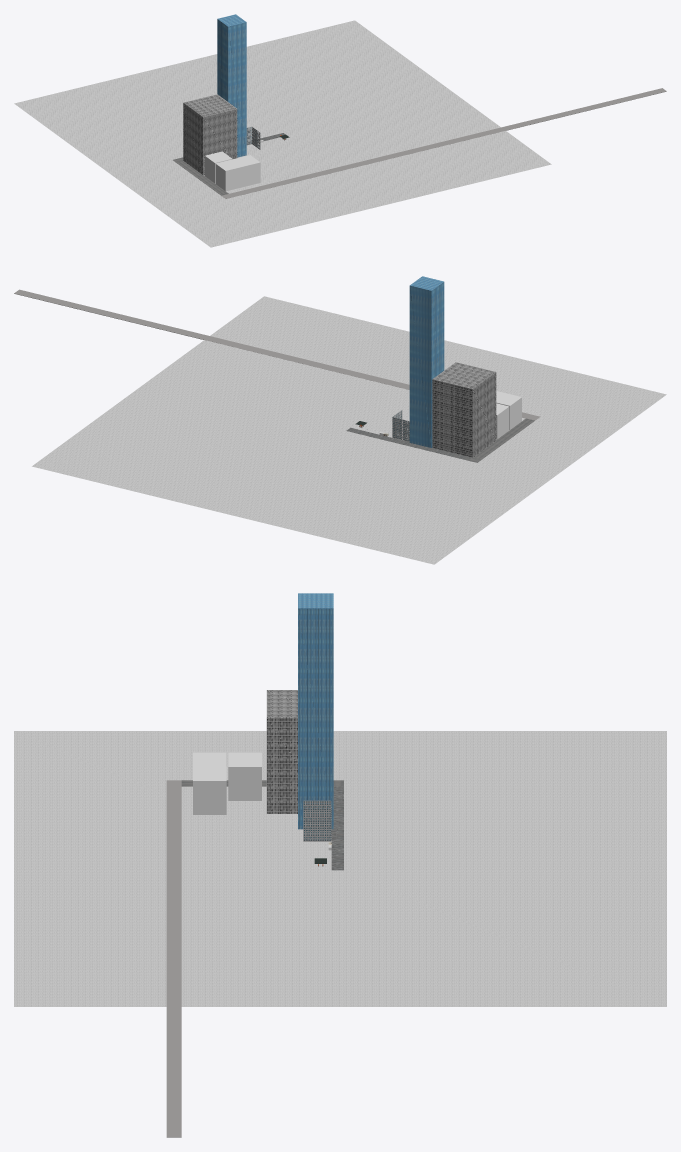
Rendered from map.glb.
3 views of the same model, one above another, from view 1: azimuth 30°, elevation 25°; view 2: azimuth 150°, elevation 25°; view 3: azimuth 270°, elevation 25° (orthographic). The views are drawn at different scales.
Visible parts, largest first — view 1: Plane, Cube.003, Cube.004, Cube.002, Cube.007, Cube.008, Cube.006; view 2: Plane, Cube.003, Cube.004, Cube.002, Cube.007, Cube.006; view 3: Plane, Cube.004, Cube.002, Cube.003, Cube.006, Cube.008, Plane.002.
Boxes of the visible parts, left/top/right/bottom form: Plane: left=14, top=20, right=551, bottom=247; Cube.003: left=183, top=94, right=237, bottom=174; Cube.004: left=217, top=14, right=246, bottom=157; Cube.002: left=173, top=88, right=666, bottom=198; Cube.007: left=215, top=159, right=243, bottom=191; Cube.008: left=233, top=155, right=260, bottom=186; Cube.006: left=204, top=151, right=232, bottom=183; Plane: left=32, top=296, right=666, bottom=564; Cube.003: left=432, top=362, right=496, bottom=457; Cube.004: left=409, top=276, right=444, bottom=447; Cube.002: left=14, top=289, right=540, bottom=462; Cube.007: left=496, top=392, right=521, bottom=429; Cube.006: left=496, top=403, right=509, bottom=439; Plane: left=14, top=731, right=666, bottom=1006; Cube.004: left=298, top=593, right=333, bottom=829; Cube.002: left=166, top=780, right=343, bottom=1137; Cube.003: left=266, top=690, right=297, bottom=813; Cube.006: left=228, top=752, right=261, bottom=800; Cube.008: left=193, top=766, right=226, bottom=814; Plane.002: left=303, top=812, right=331, bottom=841.
Bounding box in the file's own units: 642 × 164 × 436.
Materials: 13 (6 with a texture image).
